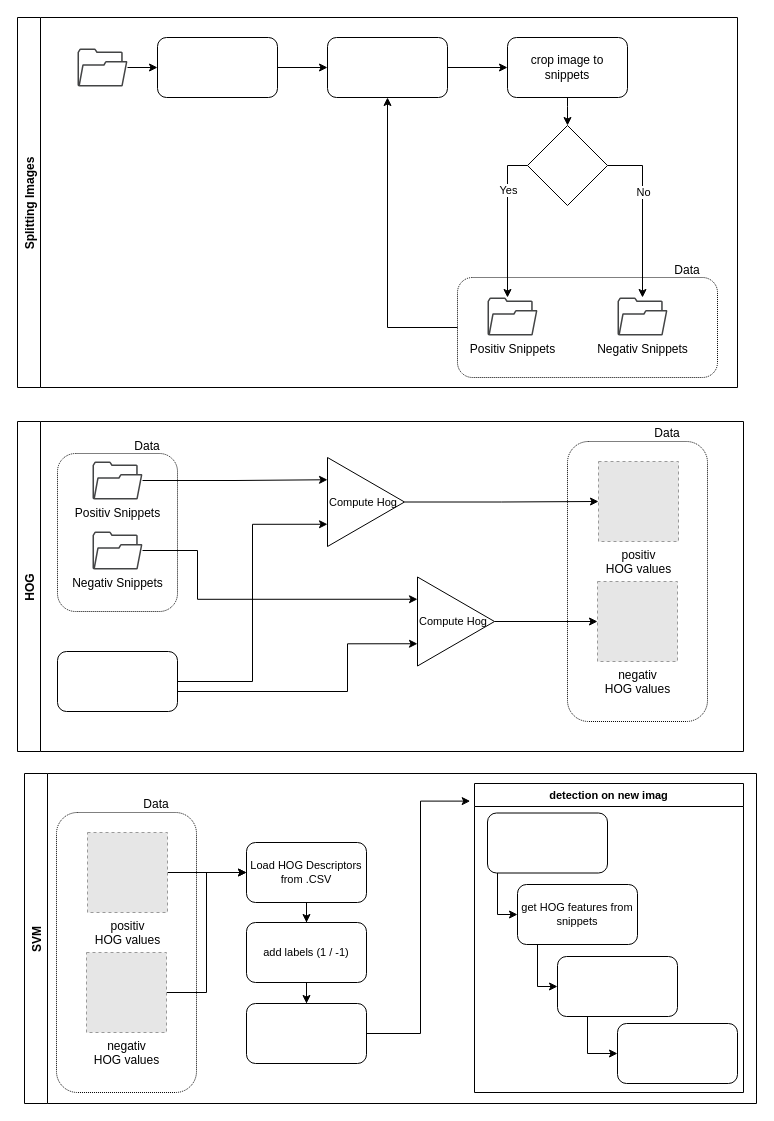
Some shapes in this 774 by 1121 pixel diagram are drawn without their labels. Grey dashed boxes stand in for pictures. Each missing label, with the centre of its shape:
"classify snippets" goes at (617,986).
"crop video frame into snippets" goes at (547,842).
"define crop size and overlap" goes at (217,67).
"Define HOG" goes at (117,681).
"define SVM & train" goes at (306,1033).
"Doorknob on snipped?" goes at (567,165).
"draw detection on image" goes at (677,1053).
"load new image" goes at (387,67).
"Training Images" goes at (102,67).
